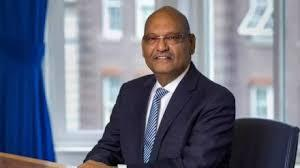person: (139, 6, 198, 77)
